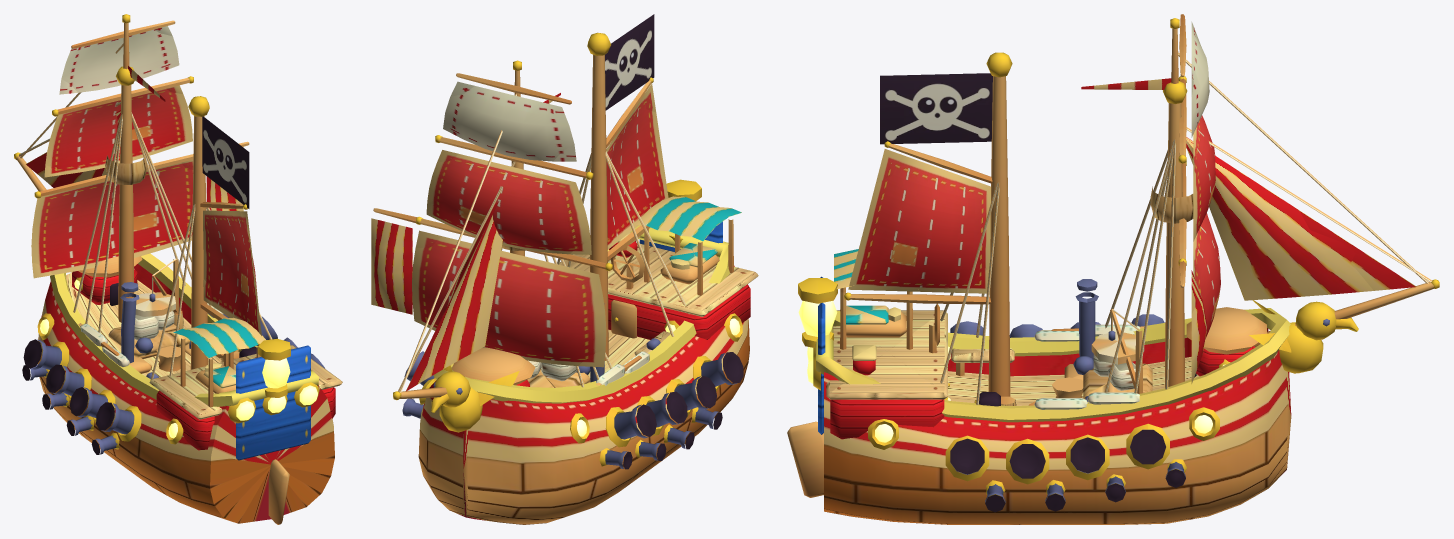
The model's file is player_brigantine.glb.
3 views of the same model, side by side, from view 1: azimuth 30°, elevation 25°; view 2: azimuth 150°, elevation 25°; view 3: azimuth 270°, elevation 25° (orthographic). The views are drawn at different scales.
Visible parts, largest first — view 1: Hull, Rigging, Sail0_0, Sail0_1, Sail1_0, Slot_rigging_Sail0, Guns0, Slot_infirmary, Flag, Slot_hold, Slot_quarters, Slot_gundeck (+4 smaller); view 2: Hull, Sail0_0, Sail0_1, Rigging, Slot_rigging_Sail0, Jib, Sail1_0, Slot_infirmary, Guns0, Slot_rigging_Sail1, Flag, Slot_quarters (+3 smaller); view 3: Hull, Rigging, Sail1_0, Jib, Flag, Guns0, Slot_quarters, Slot_infirmary, Slot_hold, Sail0_0, Slot_gundeck, Sail0_1 (+5 smaller).
Boxes of the visible parts, left/top/right/bottom form: Hull: left=37, top=253, right=342, bottom=524; Rigging: left=14, top=66, right=272, bottom=380; Sail0_0: left=31, top=160, right=193, bottom=278; Sail0_1: left=44, top=85, right=192, bottom=177; Sail1_0: left=203, top=210, right=261, bottom=335; Slot_rigging_Sail0: left=59, top=26, right=179, bottom=94; Guns0: left=23, top=314, right=324, bottom=434; Slot_infirmary: left=173, top=317, right=265, bottom=406; Flag: left=128, top=66, right=249, bottom=208; Slot_hold: left=108, top=258, right=190, bottom=357; Slot_quarters: left=72, top=256, right=223, bottom=366; Slot_gundeck: left=22, top=310, right=190, bottom=454; Hull: left=418, top=179, right=758, bottom=524; Sail0_0: left=412, top=230, right=606, bottom=367; Sail0_1: left=426, top=150, right=591, bottom=254; Rigging: left=393, top=32, right=689, bottom=400; Slot_rigging_Sail0: left=443, top=81, right=576, bottom=161; Jib: left=405, top=201, right=502, bottom=391; Sail1_0: left=606, top=84, right=668, bottom=249; Slot_infirmary: left=609, top=196, right=741, bottom=295; Guns0: left=404, top=351, right=743, bottom=439; Slot_rigging_Sail1: left=371, top=218, right=412, bottom=314; Flag: left=543, top=14, right=654, bottom=110; Slot_quarters: left=451, top=347, right=649, bottom=386; Hull: left=787, top=276, right=1358, bottom=524; Rigging: left=844, top=52, right=1439, bottom=404; Sail1_0: left=848, top=149, right=990, bottom=293; Jib: left=1186, top=137, right=1416, bottom=300; Flag: left=880, top=73, right=1171, bottom=144; Guns0: left=950, top=314, right=1165, bottom=478; Slot_quarters: left=1034, top=307, right=1266, bottom=409; Slot_infirmary: left=834, top=249, right=912, bottom=375; Slot_hold: left=1083, top=309, right=1152, bottom=398; Sail0_0: left=1193, top=213, right=1220, bottom=338; Slot_gundeck: left=985, top=392, right=1186, bottom=512; Sail0_1: left=1193, top=115, right=1215, bottom=241.
Size of the model in its own units: 2.2 by 3.53 by 4.31.
Materials: 8 (8 with a texture image).
